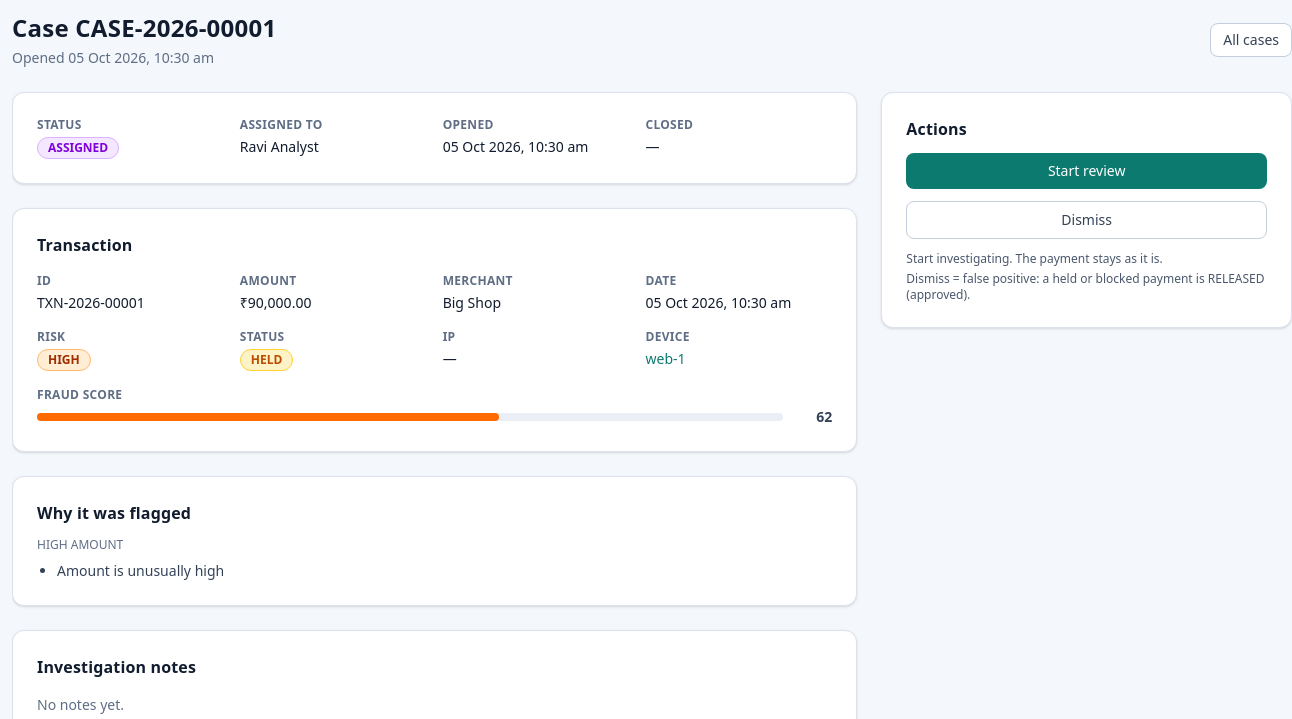
it: CaseDetail stale state after a rejected action (P-1) › a 403 refetches the case, so the buttons follow the server (someone took the case over)
Click the button "Start review" at (1087, 171), box [906,153,1267,189]
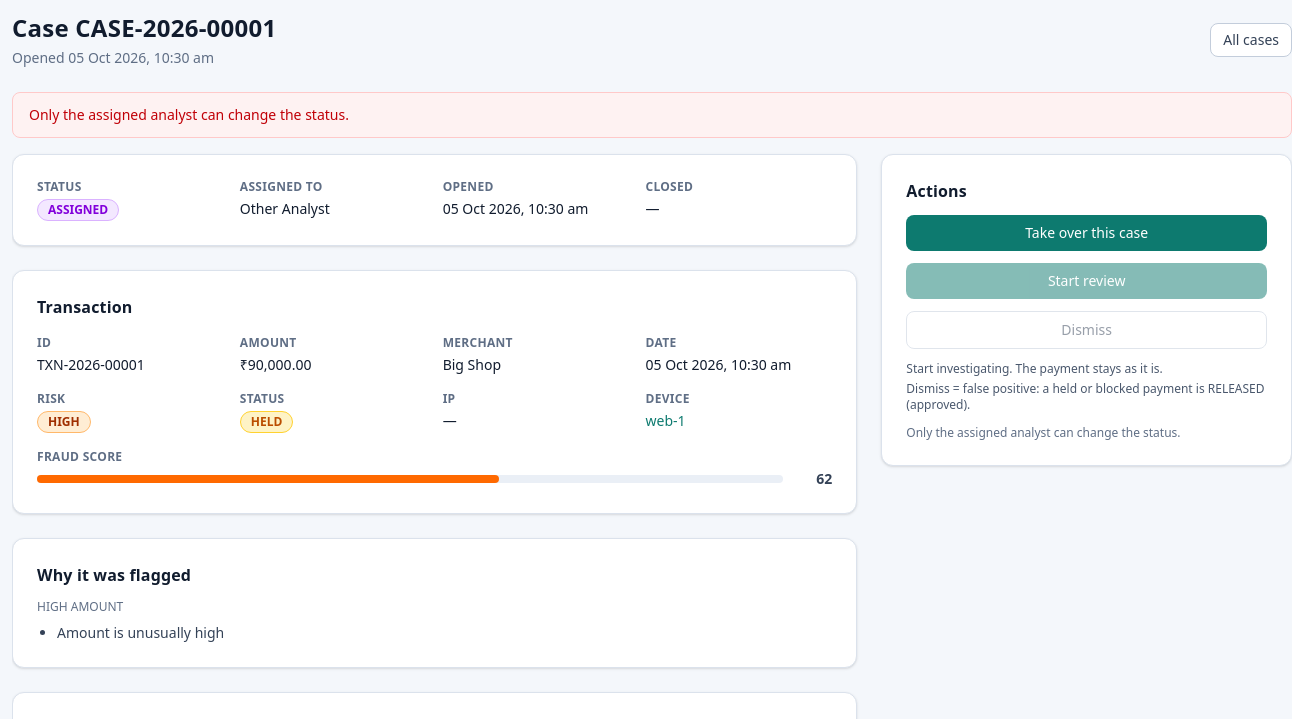
Expected: the button "Start review" is disabled, [906,263,1267,299]
Expected: the message shows "Only the assigned analyst", [29,105,349,124]
